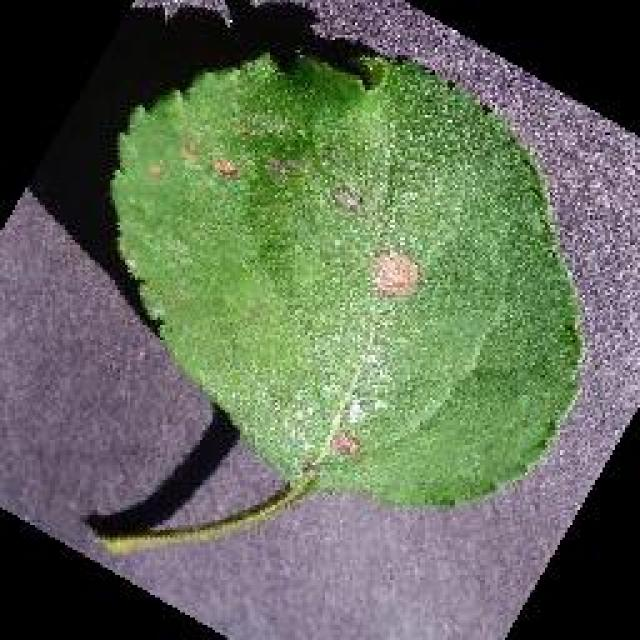Black_rot: (102, 38, 588, 512)
